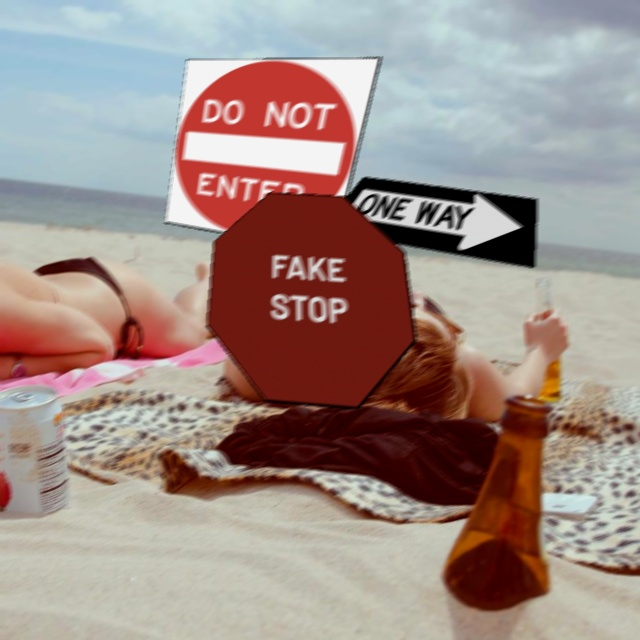DO_NOT_ENTER: (163, 56, 380, 252)
FAKE_STOP: (205, 191, 415, 408)
ONE_WAY_ right: (319, 175, 536, 267)
